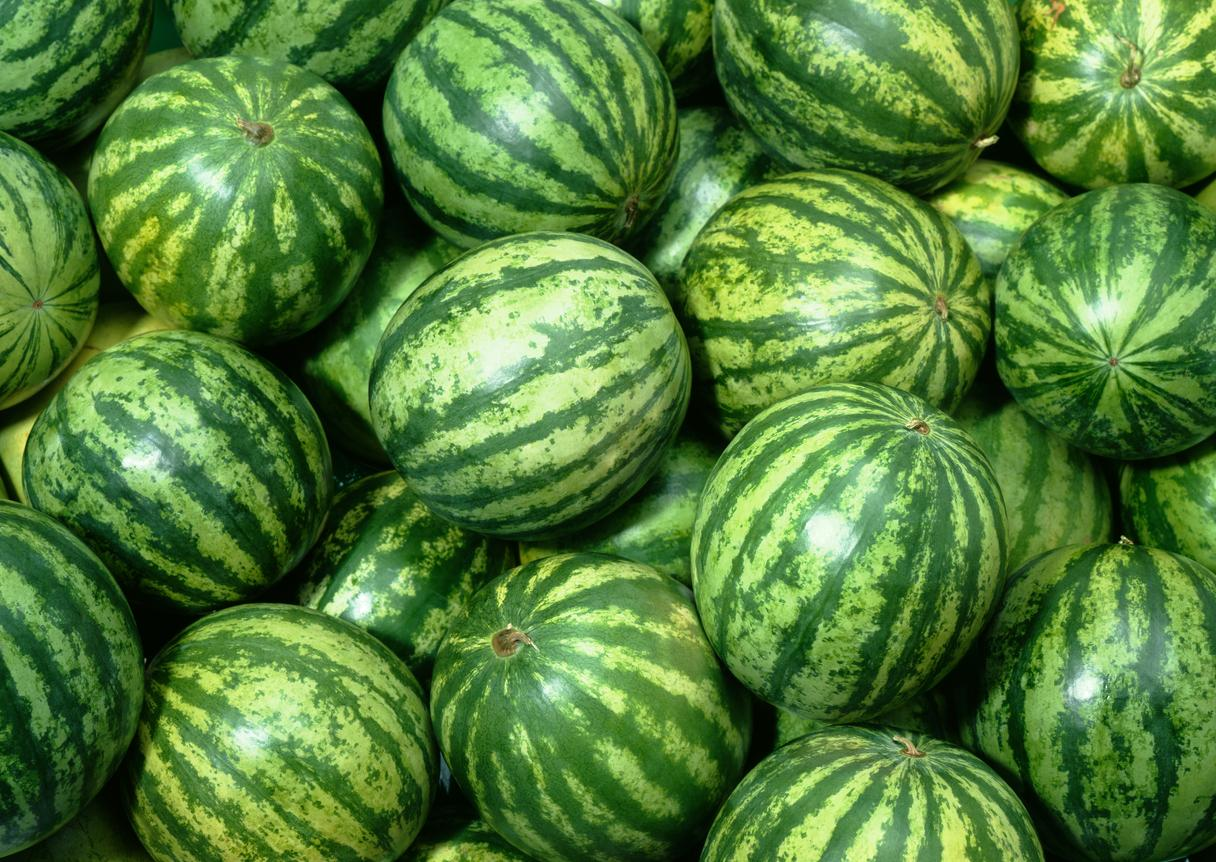dua_hau: (697, 382, 1012, 733), (367, 232, 694, 542), (93, 50, 380, 357)
